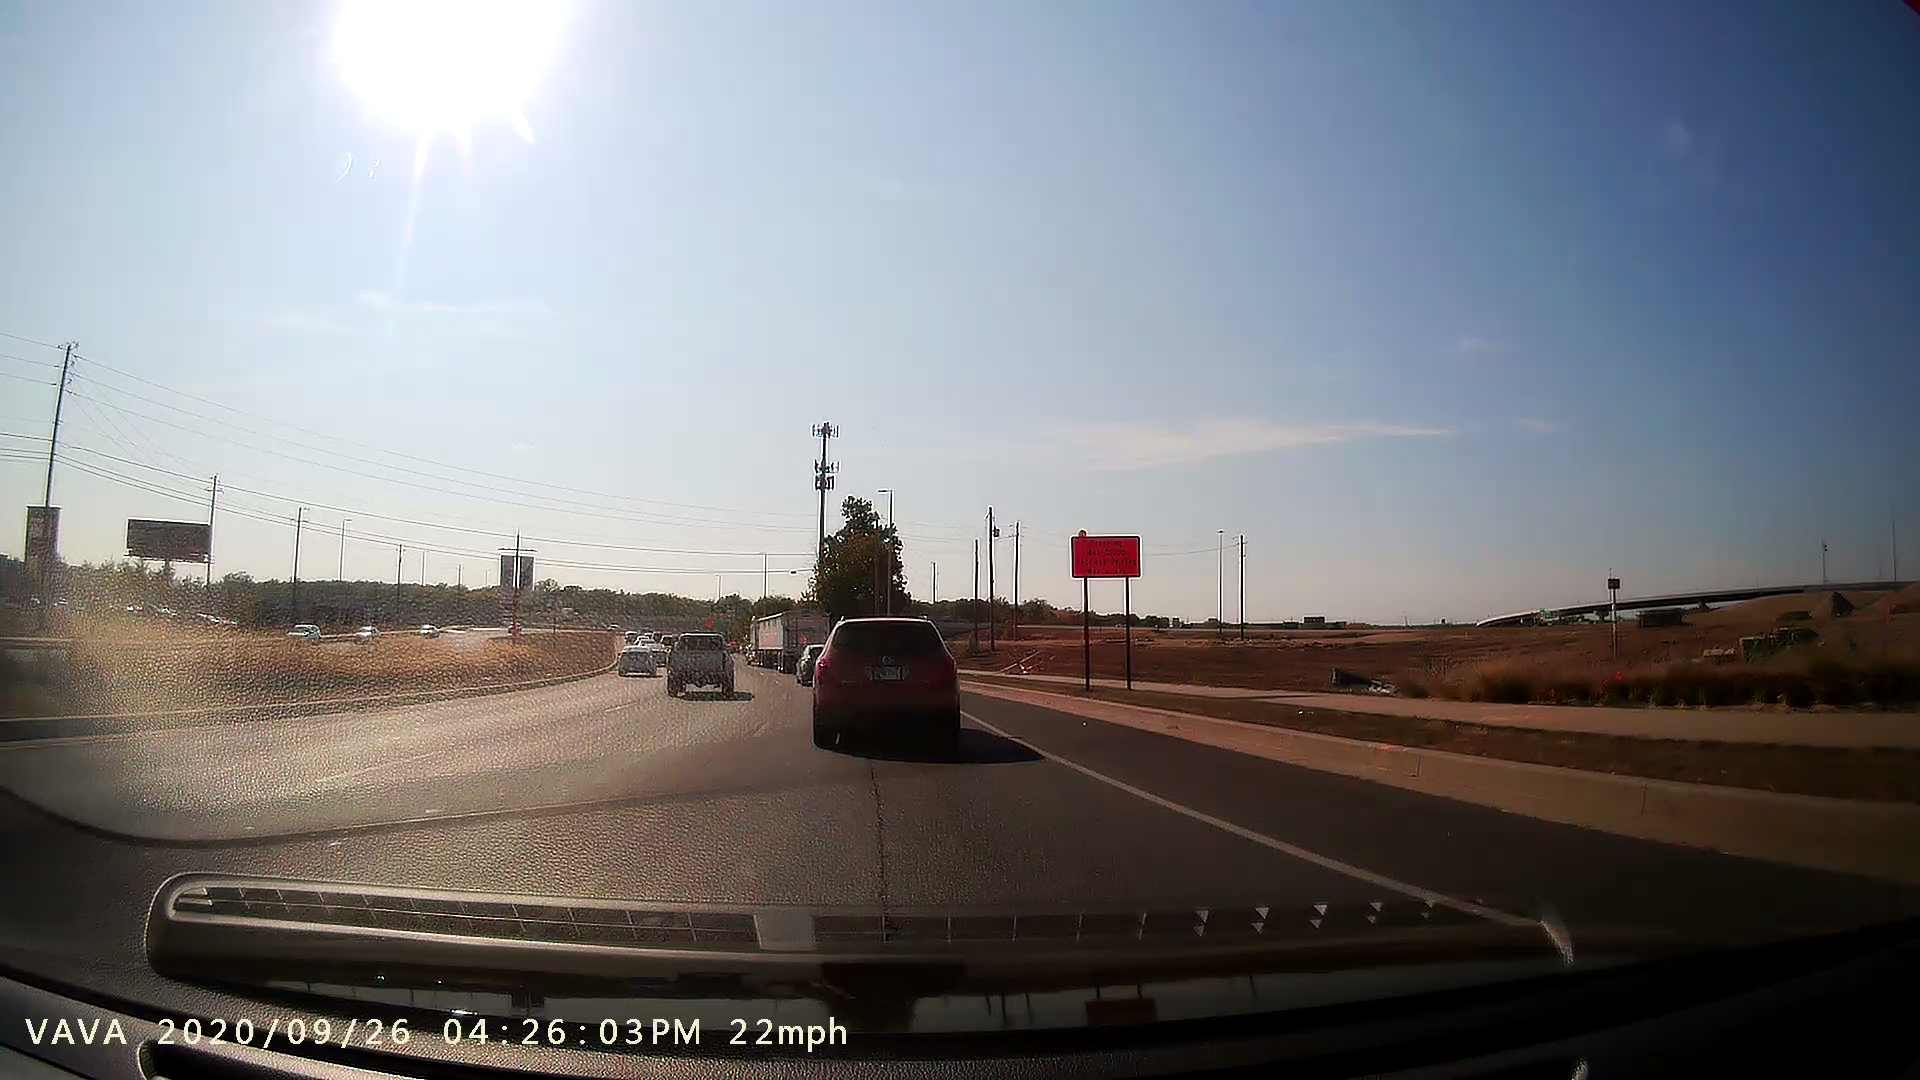temperary_sign: (1065, 526, 1145, 700)
